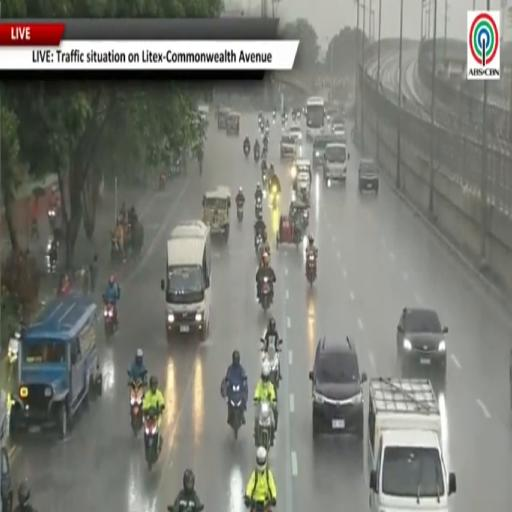bus: (161, 220, 211, 339), (306, 98, 324, 139)
car: (309, 336, 367, 439), (397, 308, 447, 377), (358, 158, 378, 194), (280, 132, 297, 159), (288, 125, 302, 143), (332, 121, 345, 139)
jeepney: (9, 294, 102, 438), (203, 186, 230, 239), (227, 111, 240, 136), (217, 107, 230, 130)
motorcycle: (261, 339, 282, 393), (225, 384, 245, 439), (144, 409, 161, 470), (128, 372, 144, 436), (255, 402, 273, 451), (8, 328, 23, 369), (259, 276, 272, 313), (104, 302, 117, 338), (111, 232, 124, 263), (167, 501, 204, 511), (306, 252, 317, 284), (47, 237, 58, 268), (47, 207, 59, 230), (249, 501, 272, 511), (270, 185, 279, 210), (255, 232, 263, 258), (302, 209, 310, 227), (255, 198, 262, 218), (253, 145, 260, 163), (262, 135, 269, 152), (237, 202, 243, 221), (159, 173, 166, 189), (243, 141, 250, 157), (261, 155, 266, 173), (262, 168, 267, 186), (199, 159, 202, 175), (265, 124, 269, 136), (273, 110, 276, 119)
truck: (368, 378, 456, 511)
